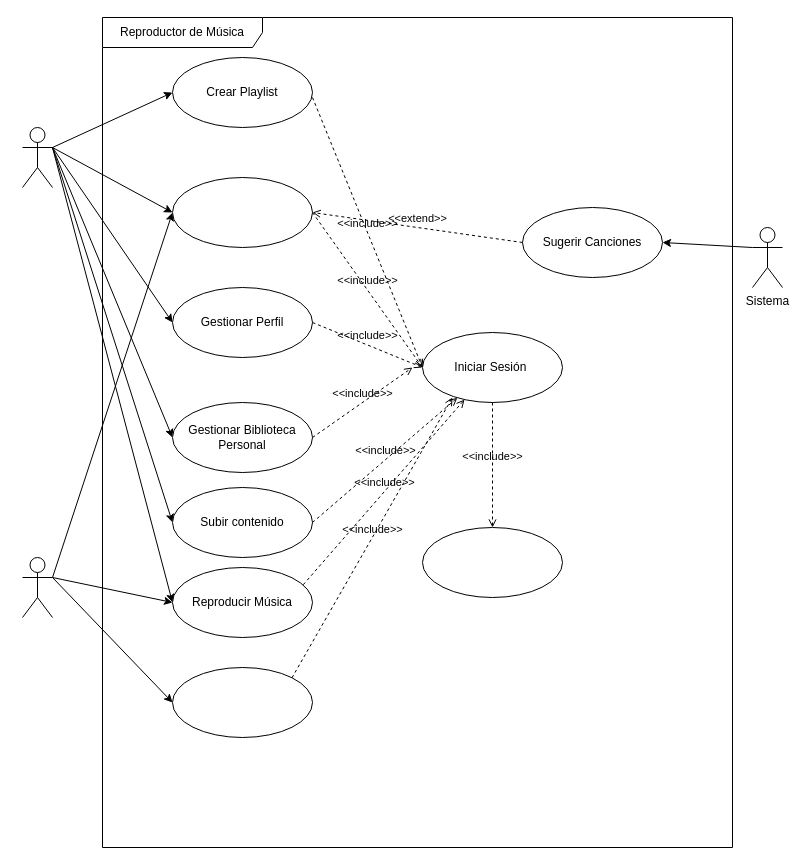
Some shapes in this 806 by 865 pixel diagram are drawn without their labels. Each missing label, with the centre of its shape:
Admin: (37,587)
Buscar Canciones: (242,212)
Gestionar Contenido: (242,702)
Registrarse: (492,562)
Usuario: (37,157)
